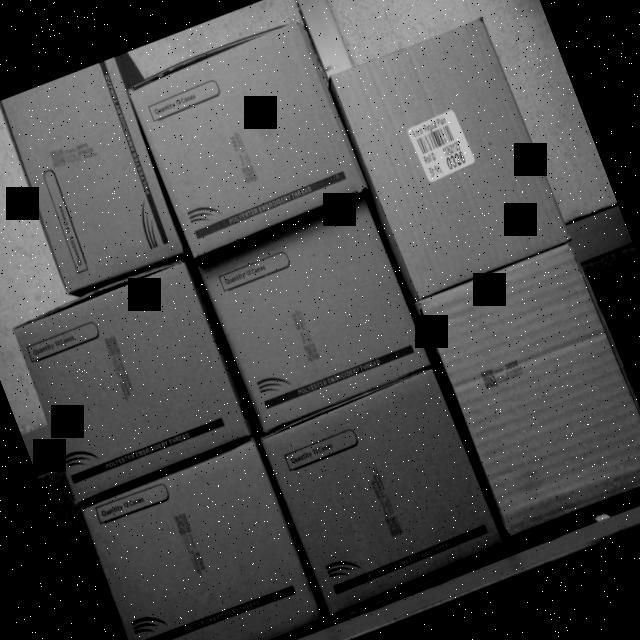box: (324, 14, 568, 298), (416, 238, 640, 533), (260, 364, 509, 614), (11, 257, 256, 503), (194, 194, 435, 433), (129, 18, 371, 254), (71, 434, 327, 640), (0, 57, 184, 296)
